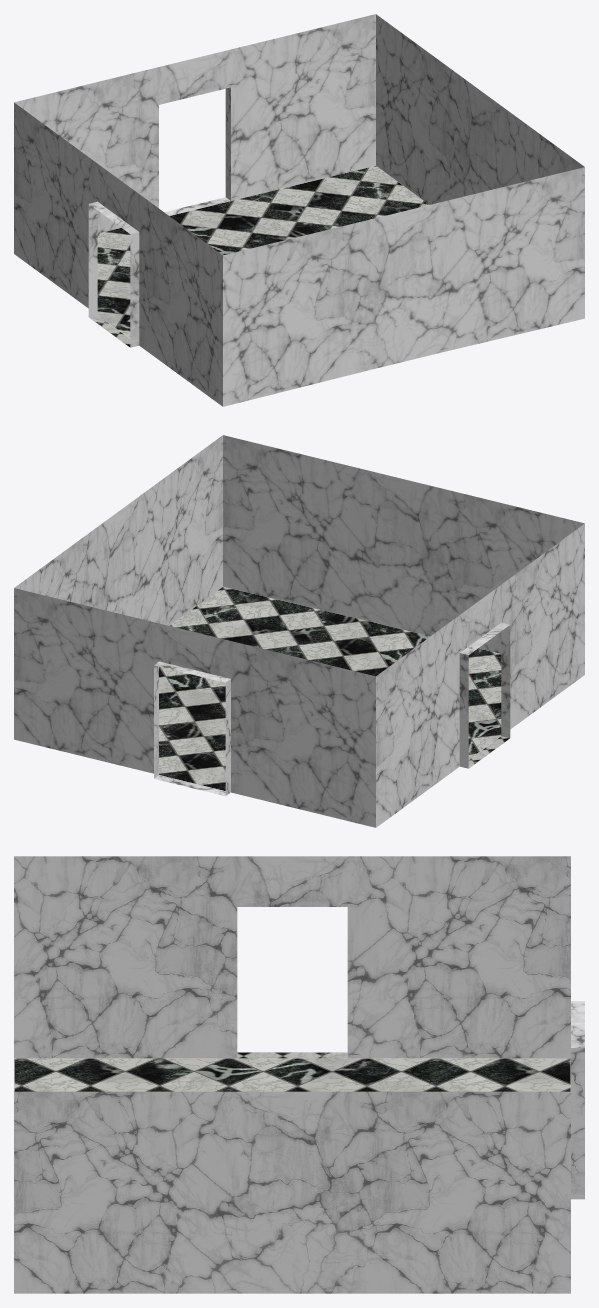
The model's file is room2.fbx.
3 renders of one model, top to bottom at view 1: azimuth 30°, elevation 25°; view 2: azimuth 150°, elevation 25°; view 3: azimuth 270°, elevation 25°, orthographic. The views are drawn at different scales.
Parts seen in each view (by area): view 1: Room2; view 2: Room2; view 3: Room2.
Boxes of the visible parts, left/top/right/bottom form: Room2: left=14, top=14, right=584, bottom=406; Room2: left=14, top=435, right=584, bottom=827; Room2: left=14, top=856, right=584, bottom=1293.
Bounding box in the file's own units: 625 × 244 × 625.
